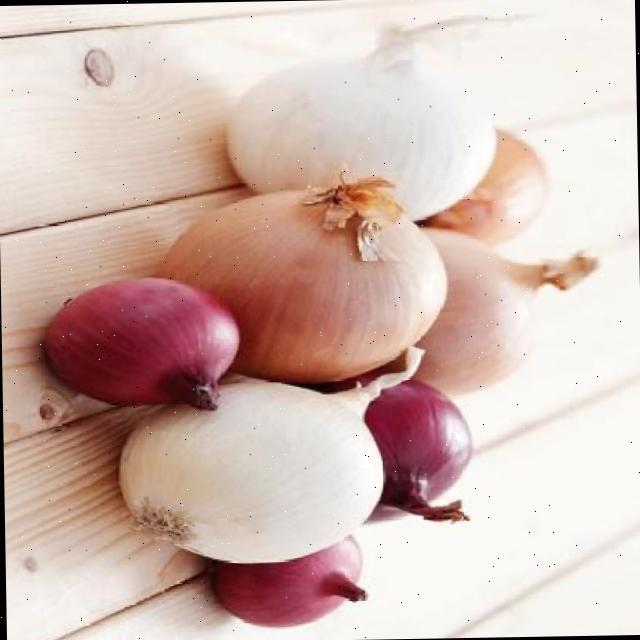Onion: (117, 348, 421, 564), (160, 176, 446, 384), (224, 46, 494, 220), (414, 229, 597, 396), (43, 279, 237, 411), (364, 380, 470, 523), (419, 129, 546, 245), (213, 538, 366, 629)
